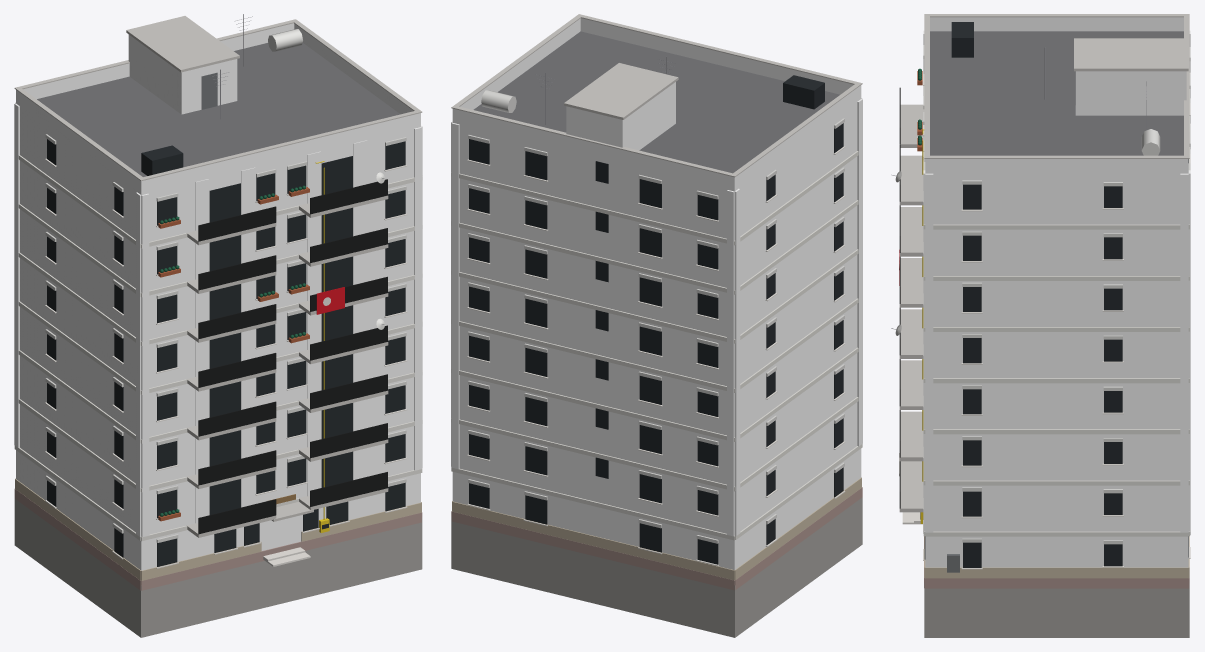
Rendered from bina_07.glb.
3 views of the same model, side by side, from view 1: azimuth 30°, elevation 25°; view 2: azimuth 150°, elevation 25°; view 3: azimuth 270°, elevation 25° (orthographic). The views are drawn at different scales.
Parts seen in each view (by area): view 1: P07_Apt_Konut_B_L1.001; view 2: P07_Apt_Konut_B_L1.001; view 3: P07_Apt_Konut_B_L1.001.
Part boxes in pixels (<box>): P07_Apt_Konut_B_L1.001: <box>14,14,422,637</box>; P07_Apt_Konut_B_L1.001: <box>451,14,862,637</box>; P07_Apt_Konut_B_L1.001: <box>891,14,1190,637</box>.
Size of the model in its own units: 18.31 by 30.47 by 15.91.
